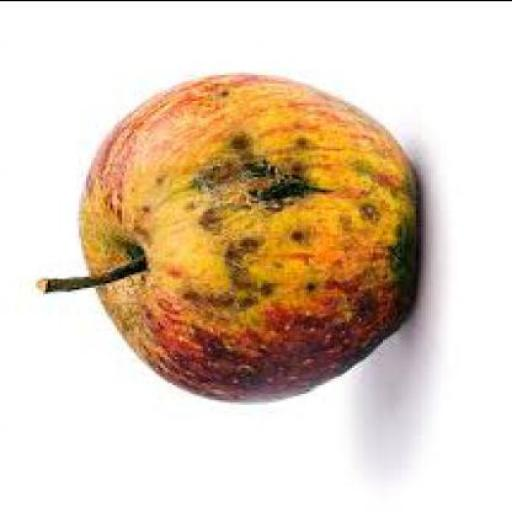biodegradable: (33, 69, 416, 402)
